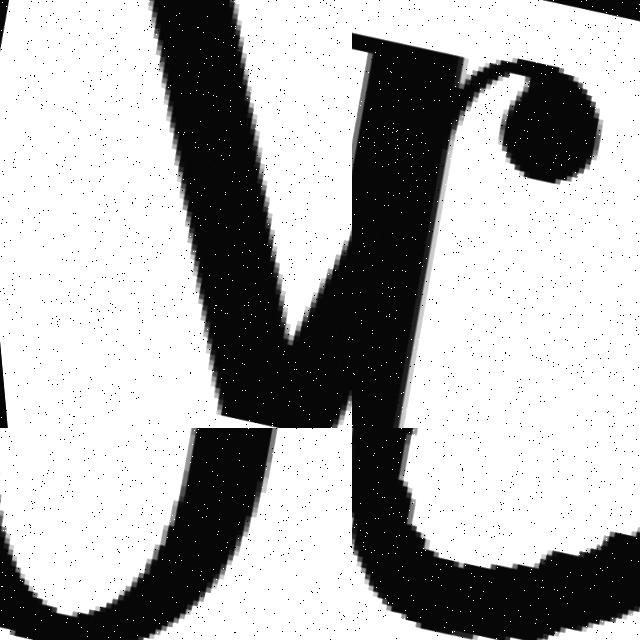0: (0, 428, 352, 640)
C: (352, 428, 640, 640)
R: (352, 0, 640, 428)
V: (0, 0, 352, 428)
